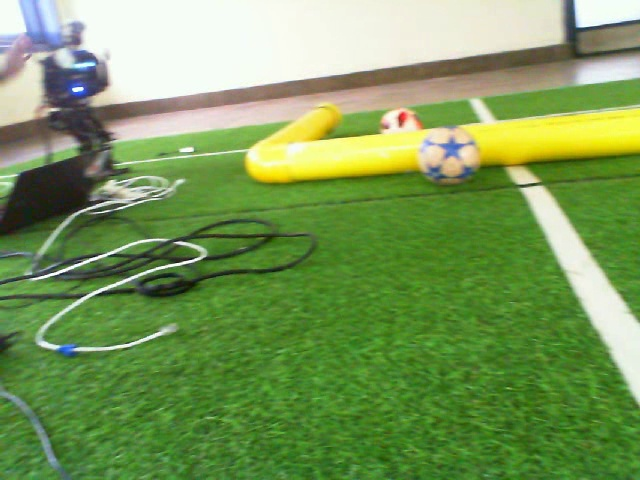ball: (418, 123, 483, 190), (378, 106, 417, 133)
